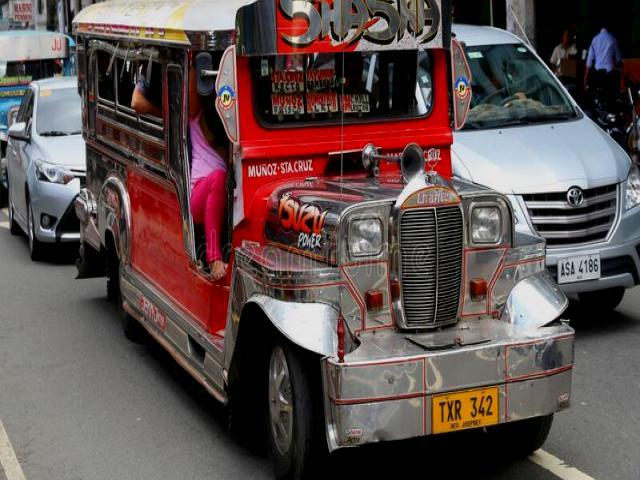jeepney: (51, 0, 573, 480)
